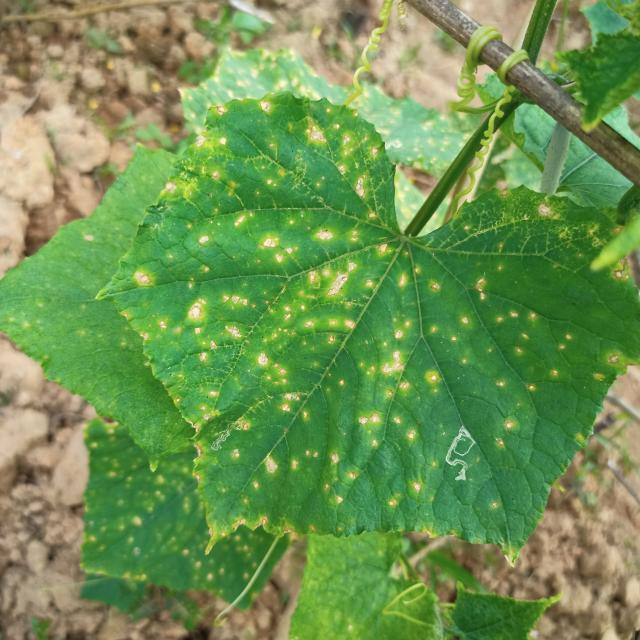disease_cucumber: (131, 109, 574, 528)
